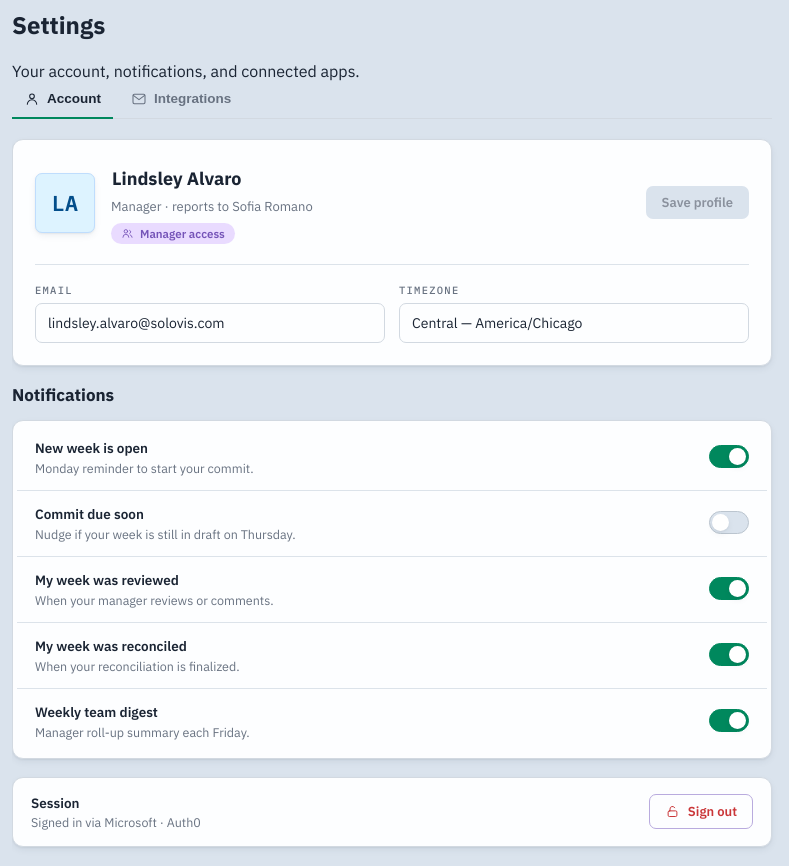
Test: Settings — Integrations tab › switches to the Integrations tab and shows the disconnected Outlook card
The width and height of the screenshot is (789, 866).
Click the tab with test id "settings-tab-integrations".
click(181, 100)  # box x1=119 y1=81 x2=243 y2=119
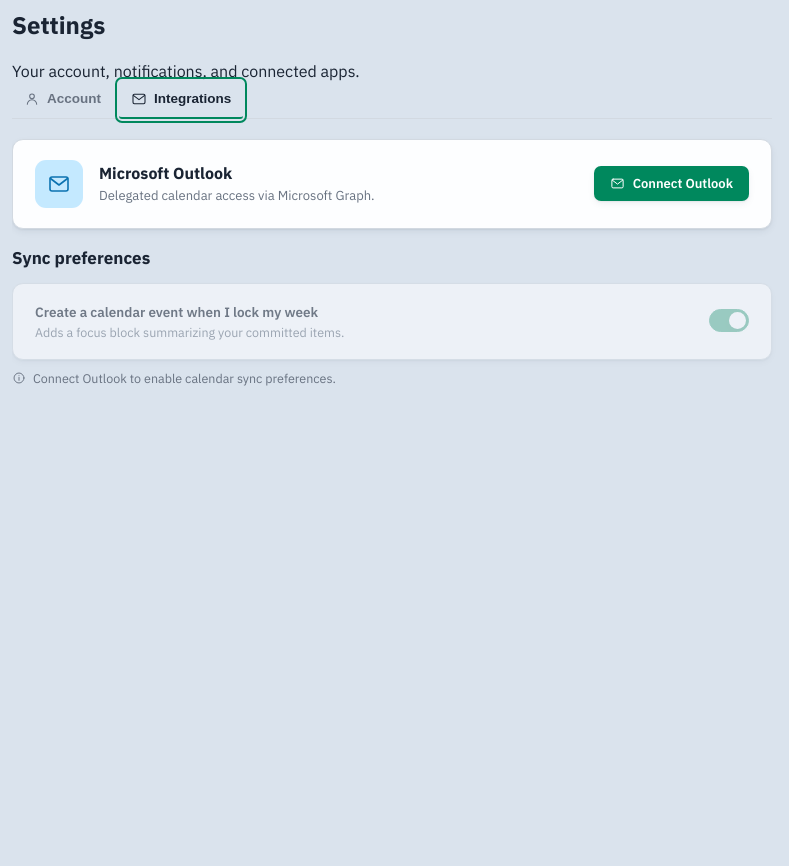
Expected: the button with test id "connect-outlook" is shown, x1=594 y1=166 x2=749 y2=201
